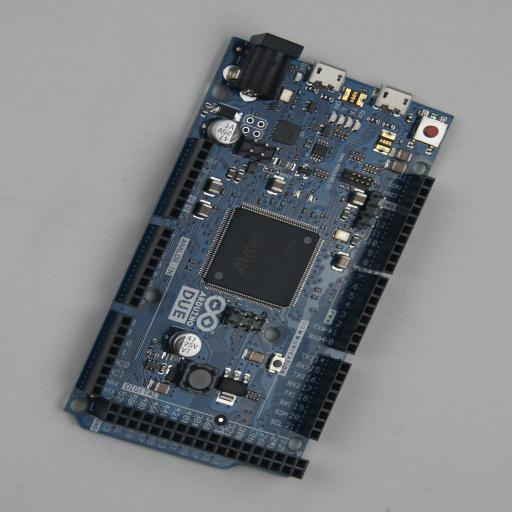Arduino Due: (63, 33, 454, 479)
